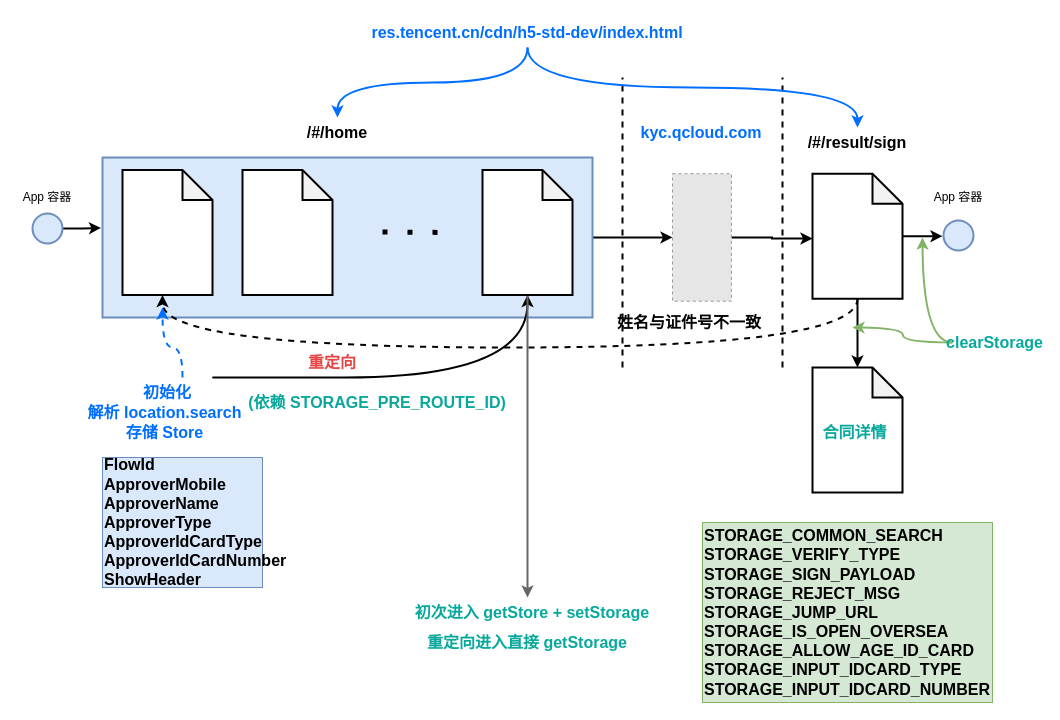
This 1060x720 diagram has some shape labels left out. Grey dashed boxes stand in for pictures. The shapes that lost their labels are listed below. From the top down, each one's centre as x and y in pixels, then its label:
At point (527, 232): "意愿认证".
At point (857, 235): "签署结果".
